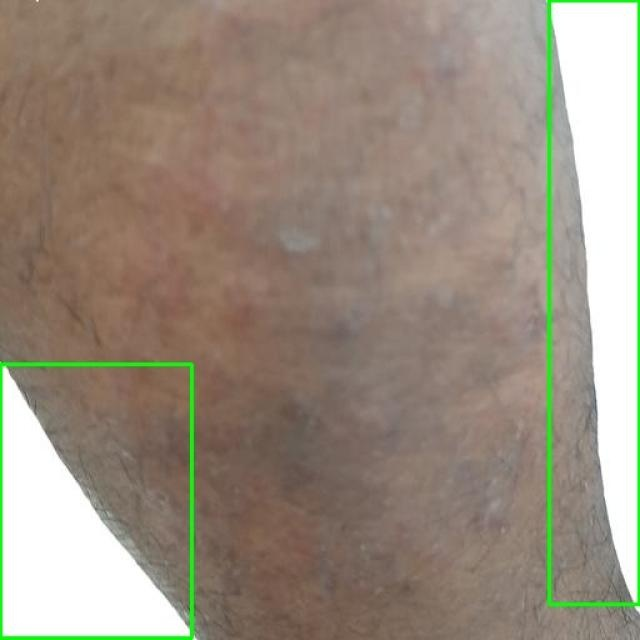Tinea Corporis: (549, 0, 639, 605), (0, 365, 192, 639)
